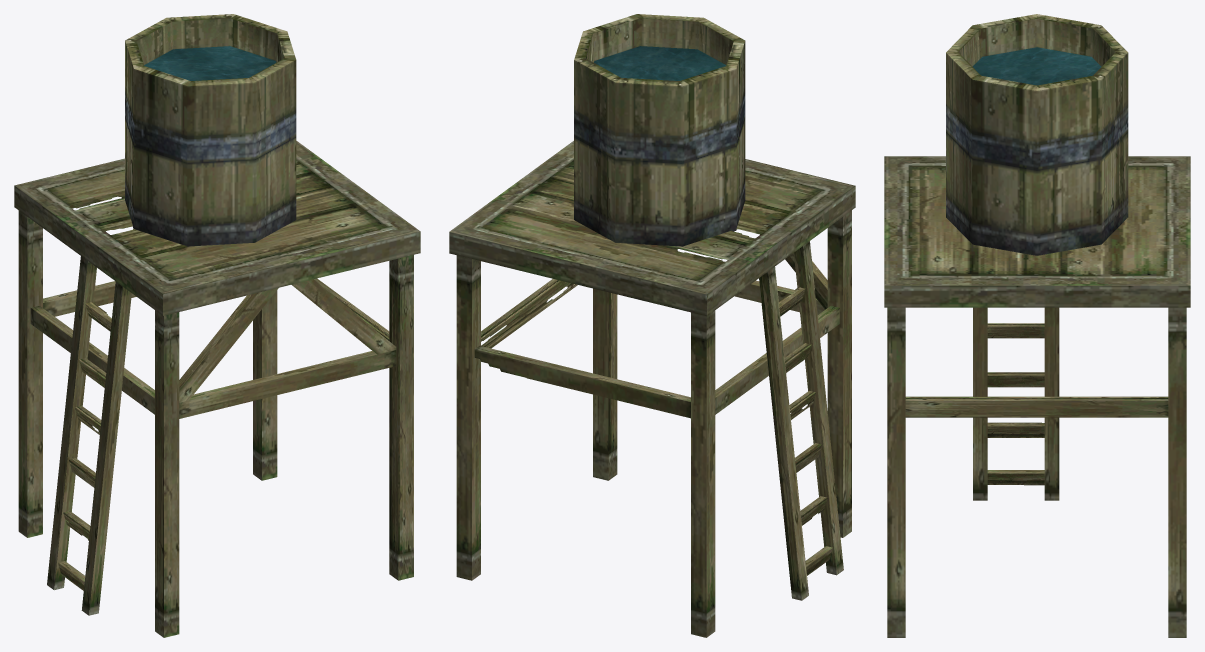
3 renders of one model, left to right at view 1: azimuth 30°, elevation 25°; view 2: azimuth 150°, elevation 25°; view 3: azimuth 270°, elevation 25°, orthographic. The views are drawn at different scales.
Parts seen in each view (by area): view 1: geom_node_0; view 2: geom_node_0; view 3: geom_node_0.
Part boxes in pixels (x1,y1,x2,y2): geom_node_0: (14,14,420,637); geom_node_0: (449,14,855,637); geom_node_0: (884,14,1190,637).
Bounding box in the file's own units: 2.8 × 4.69 × 2.5.
Materials: 3 (3 with a texture image).
